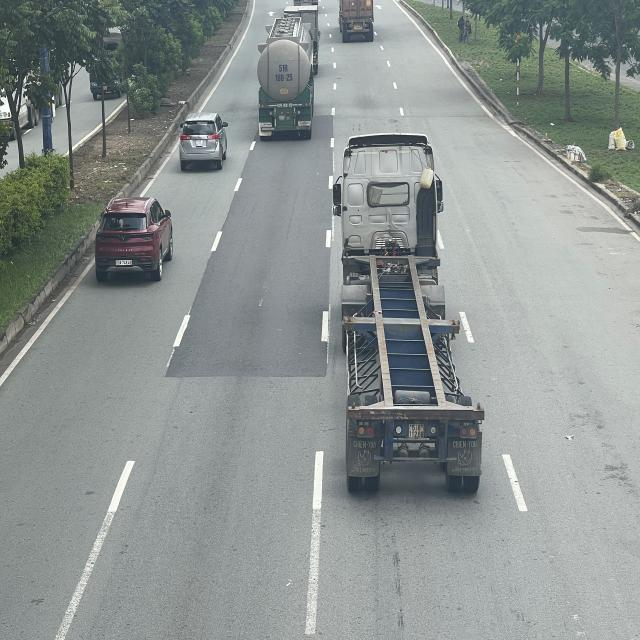car: (95, 196, 173, 278), (179, 111, 228, 167)
container: (331, 132, 484, 491), (257, 15, 317, 136), (339, 0, 374, 39)
